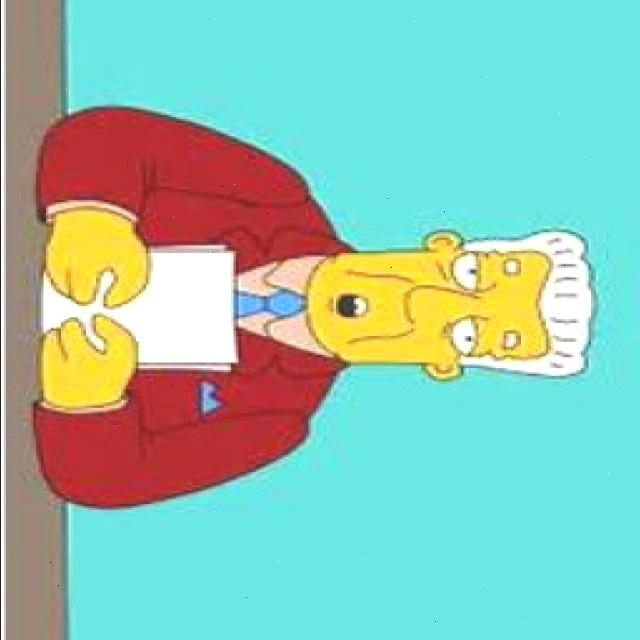Kent Brockman: (304, 221, 606, 383)
